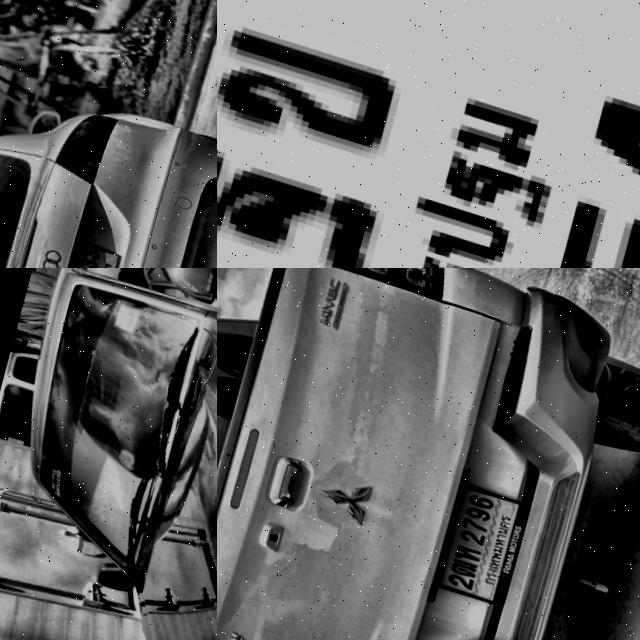license-plate: (217, 0, 640, 268), (434, 471, 534, 601), (58, 231, 127, 268)
